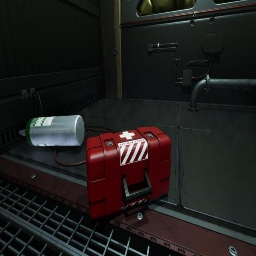0: (19, 115, 85, 146)
FirstAidBox ,: (86, 126, 171, 221)
